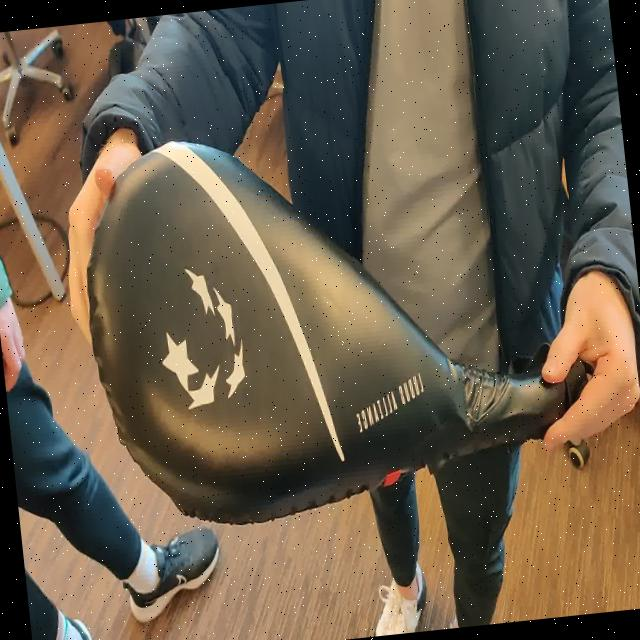paddle: (88, 140, 589, 523)
